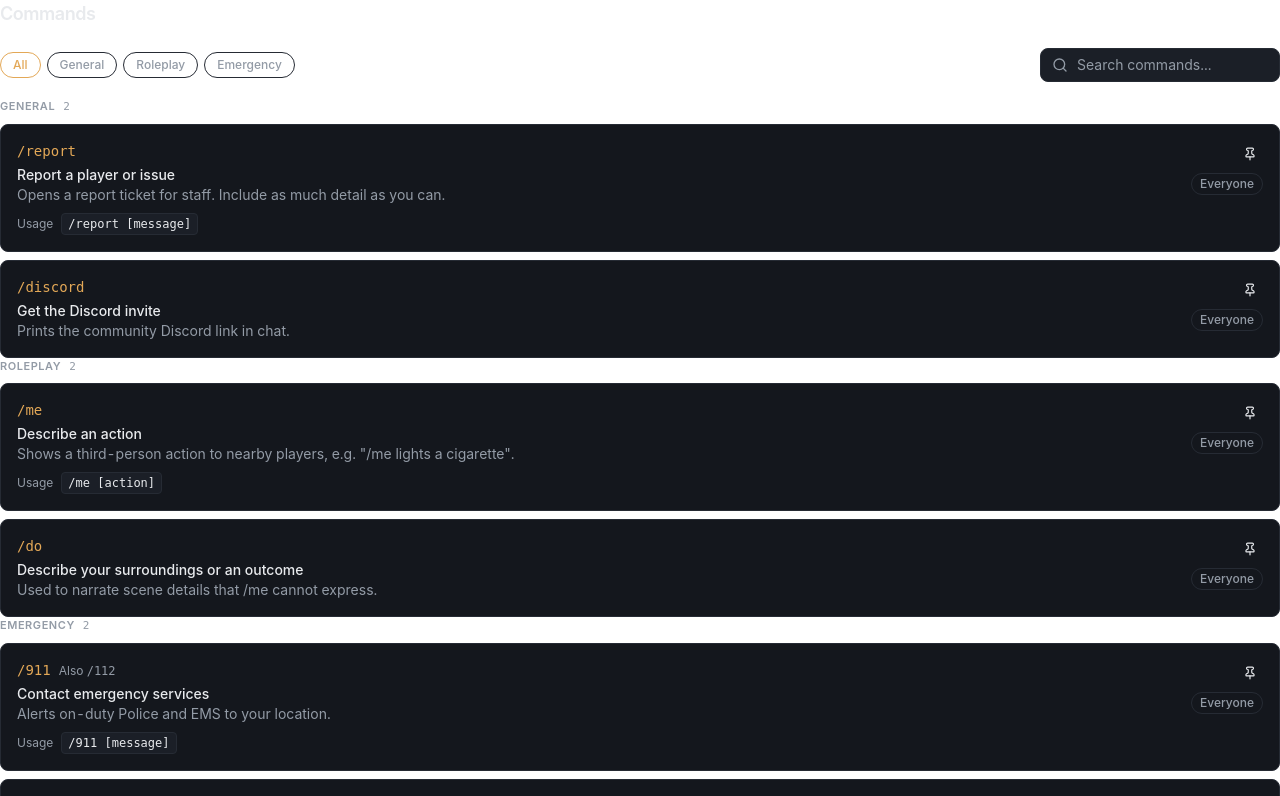
CommandsPage › finds a command by alias in the in-page filter
In the search field: (1160, 65) x1=1040 y1=48 x2=1279 y2=82, type "112"
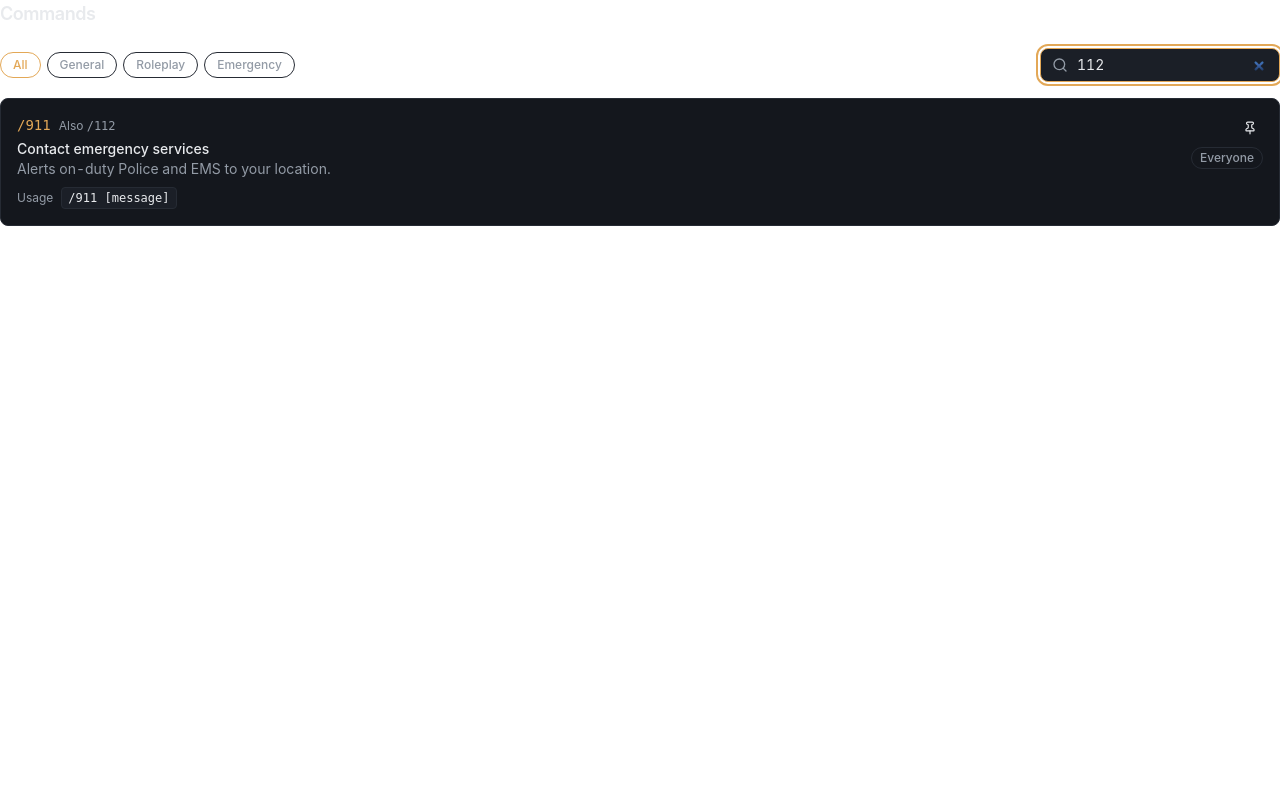
Check: the text "/911" is shown, box x1=17 y1=115 x2=51 y2=135
Check: the text "/report" is gone
